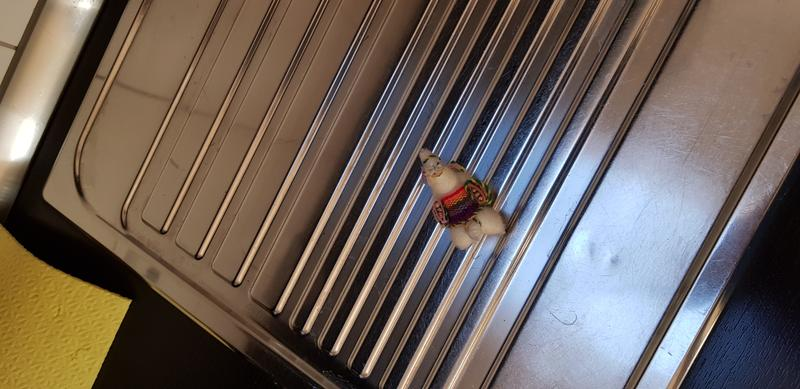Horse-Toy: (403, 141, 517, 263)
